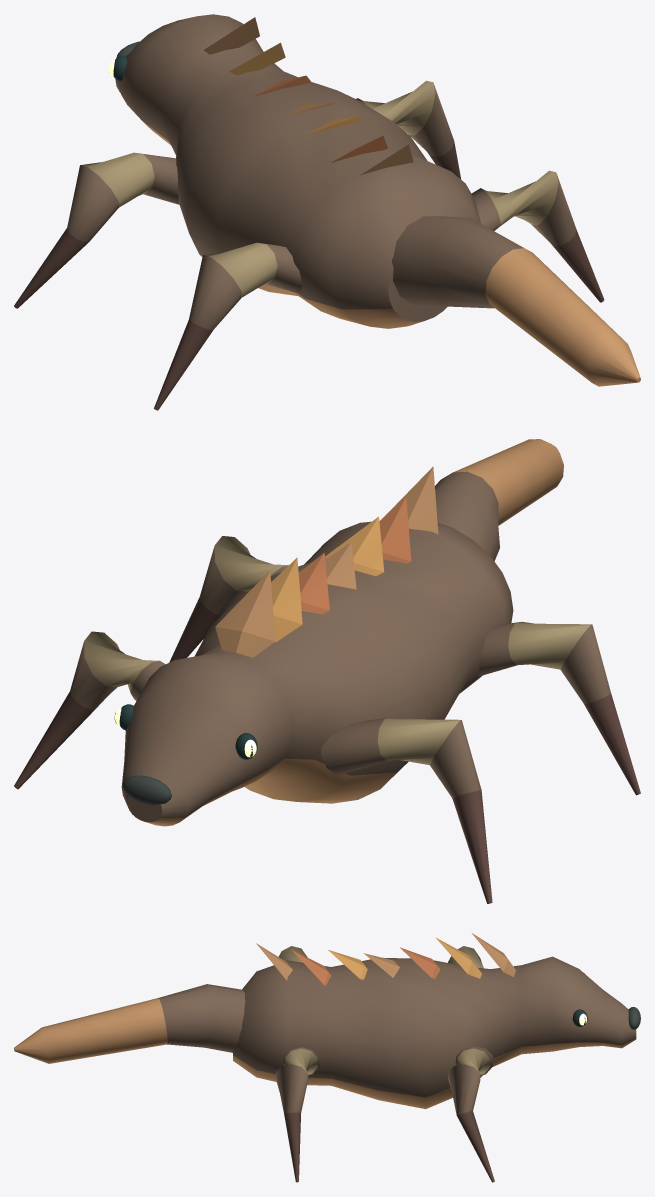
The model's file is lizard.glb.
The picture shows the model from 3 angles, top to bottom: view 1: azimuth 30°, elevation 25°; view 2: azimuth 150°, elevation 25°; view 3: azimuth 270°, elevation 25°; orthographic projection. The views are drawn at different scales.
Parts seen in each view (by area): view 1: Body, Walk00, Walk02, Walk03, Walk01; view 2: Body, Walk00, Walk02, Walk01, Walk03; view 3: Body, Walk01, Walk03.
Part boxes in pixels (left/top/right/bottom): Body: left=108, top=14, right=640, bottom=386; Walk00: left=14, top=152, right=179, bottom=308; Walk02: left=154, top=242, right=302, bottom=410; Walk03: left=471, top=170, right=604, bottom=302; Walk01: left=356, top=80, right=461, bottom=179; Body: left=114, top=439, right=563, bottom=826; Walk00: left=321, top=717, right=492, bottom=903; Walk02: left=477, top=621, right=640, bottom=795; Walk01: left=14, top=631, right=165, bottom=789; Walk03: left=169, top=536, right=288, bottom=662; Body: left=14, top=933, right=640, bottom=1108; Walk01: left=448, top=1046, right=494, bottom=1182; Walk03: left=275, top=1047, right=319, bottom=1182.
Bounding box in the file's own units: 1.52 × 0.8042 × 2.62.
2 materials, 1 textured.
